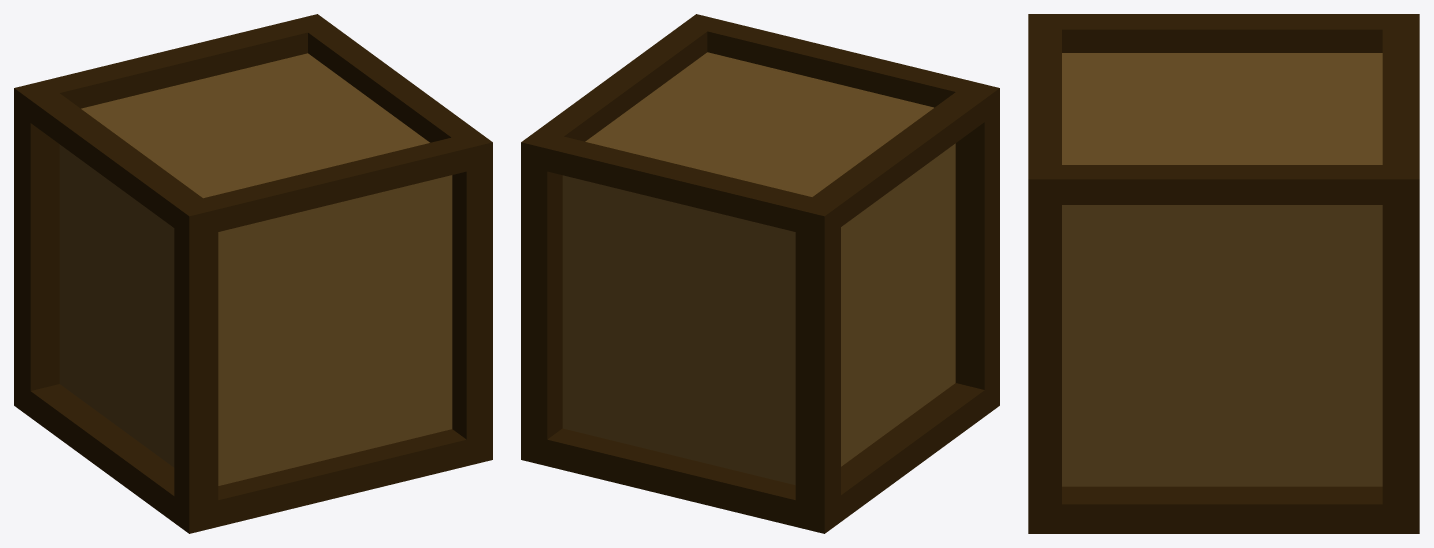
The model's file is crate.fbx.
The picture shows the model from 3 angles, left to right: view 1: azimuth 30°, elevation 25°; view 2: azimuth 150°, elevation 25°; view 3: azimuth 270°, elevation 25°; orthographic projection. The views are drawn at different scales.
Parts seen in each view (by area): view 1: Cube; view 2: Cube; view 3: Cube.
Boxes of the visible parts, left/top/right/bottom form: Cube: left=14, top=14, right=492, bottom=533; Cube: left=521, top=14, right=999, bottom=533; Cube: left=1028, top=14, right=1419, bottom=533.
Size of the model in its own units: 200 by 200 by 200.
